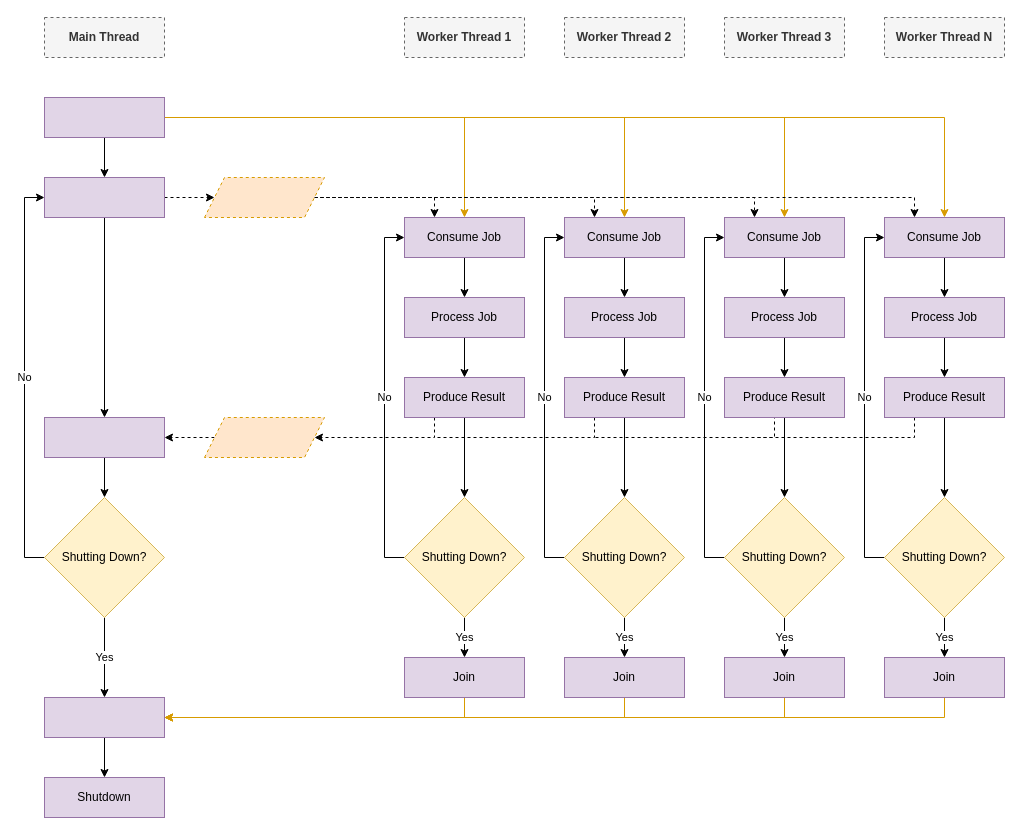
Image size: 1022x835. Some labels were removed from this diagram. The shapes that lost their labels are listed below. From the top down, each one's centre as x and y in pixels, then its label:
At point (104, 117): "Spawn Workers".
At point (104, 197): "Schedule Jobs".
At point (264, 197): "Job Queue".
At point (104, 437): "Consume Results".
At point (264, 437): "Result Queue".
At point (104, 717): "Kill Workers".
